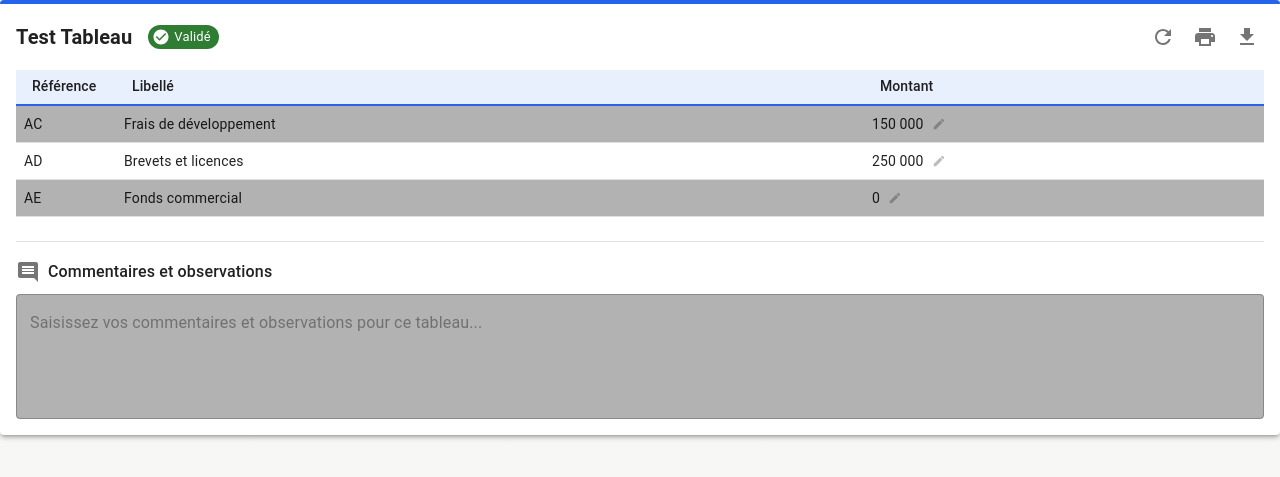
LiasseTableauGenerique › permet l'édition des cellules quand editable=true
Click the text "150 000" at (898, 124), box [872, 114, 924, 134]
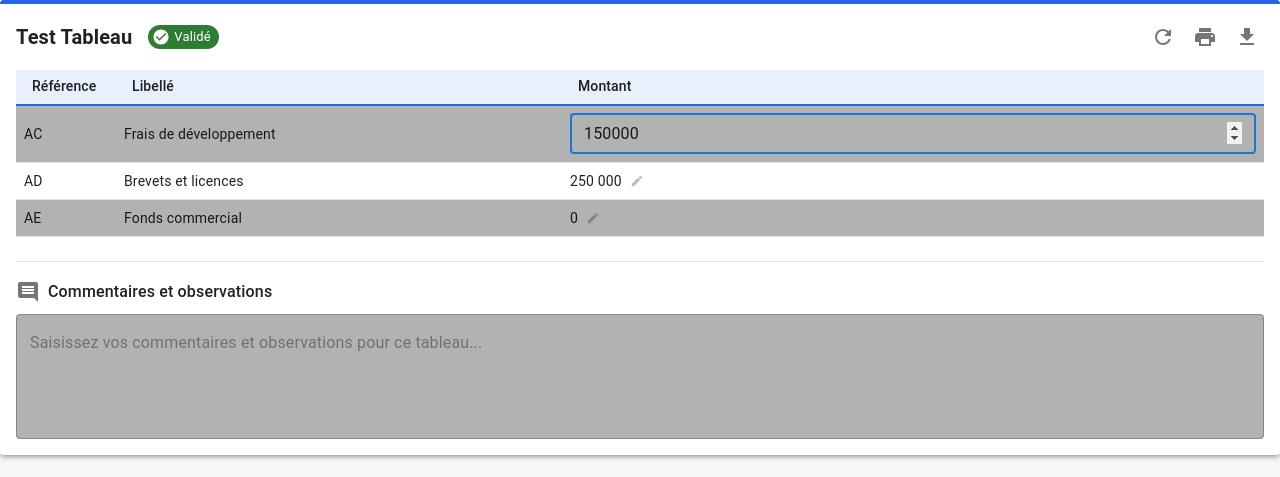
Expected: the number field showing "150000" is shown, [570, 114, 1256, 154]
